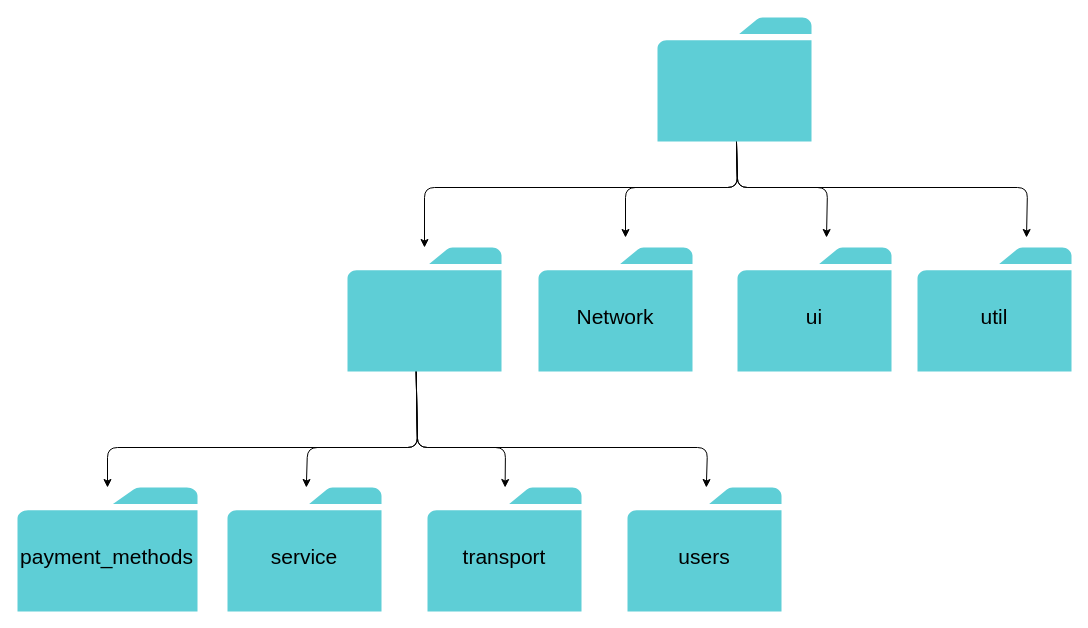
Some shapes in this 1088 by 628 pixel diagram are drawn without their labels. Here are the shapes that lost their labels. From the top down, the box of each, then its label:
(657, 17, 811, 141): com.ceid
(347, 247, 501, 371): model
